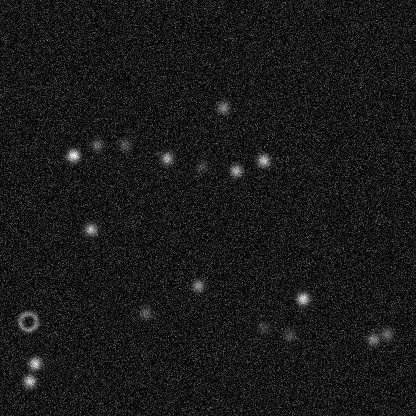Ring: (16, 309, 40, 333)
Spot: (21, 373, 37, 389), (255, 152, 271, 168), (82, 221, 98, 237), (227, 162, 243, 178), (158, 150, 174, 166), (26, 355, 42, 371), (364, 331, 380, 347), (189, 277, 205, 293), (116, 136, 132, 152), (255, 319, 271, 335), (65, 147, 81, 163), (137, 304, 153, 320), (378, 325, 394, 341), (193, 158, 209, 174), (215, 99, 231, 115), (89, 136, 105, 152), (294, 290, 310, 306), (281, 327, 297, 343)
